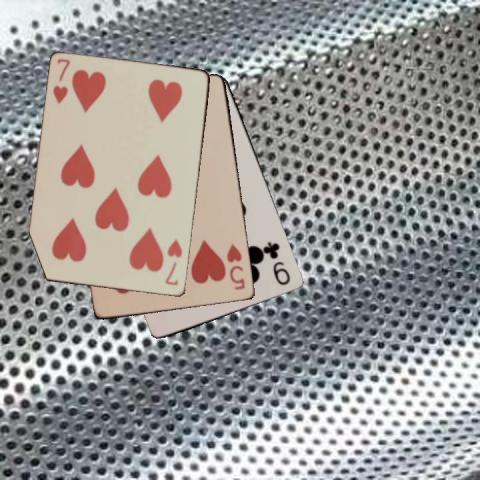5h: (224, 241, 247, 292)
7h: (162, 236, 184, 287), (50, 56, 72, 106)
9c: (263, 238, 292, 286)
